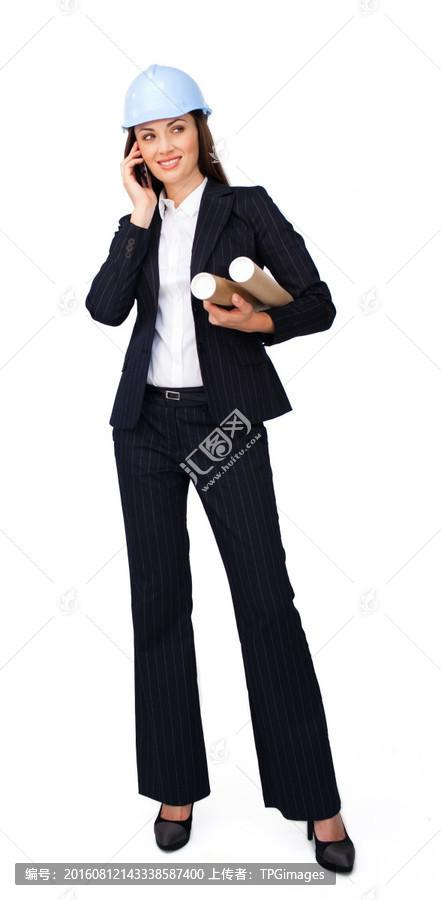helmet: (118, 64, 214, 133)
